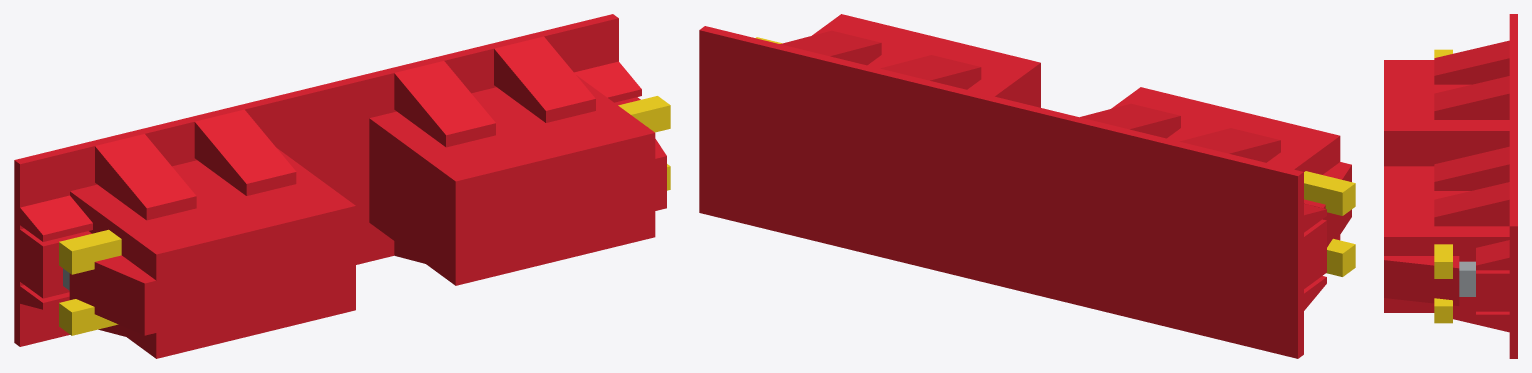
The model's file is tinker.obj.
3 renders of one model, left to right at view 1: azimuth 30°, elevation 25°; view 2: azimuth 150°, elevation 25°; view 3: azimuth 270°, elevation 25°, orthographic. The views are drawn at different scales.
Visible parts, largest first — view 1: group_0_15277357, group_0_16768282; view 2: group_0_15277357, group_0_16768282; view 3: group_0_15277357, group_0_16768282, group_0_10988977.
Boxes of the visible parts, box(x1,y1,x2,y2) form: group_0_15277357: box(14, 14, 666, 358); group_0_16768282: box(59, 96, 670, 335); group_0_15277357: box(699, 14, 1351, 358); group_0_16768282: box(755, 37, 1355, 276); group_0_15277357: box(1384, 14, 1517, 358); group_0_16768282: box(1434, 49, 1452, 323); group_0_10988977: box(1459, 261, 1475, 296).
Bounding box in the file's own units: 120 × 35 × 32.
